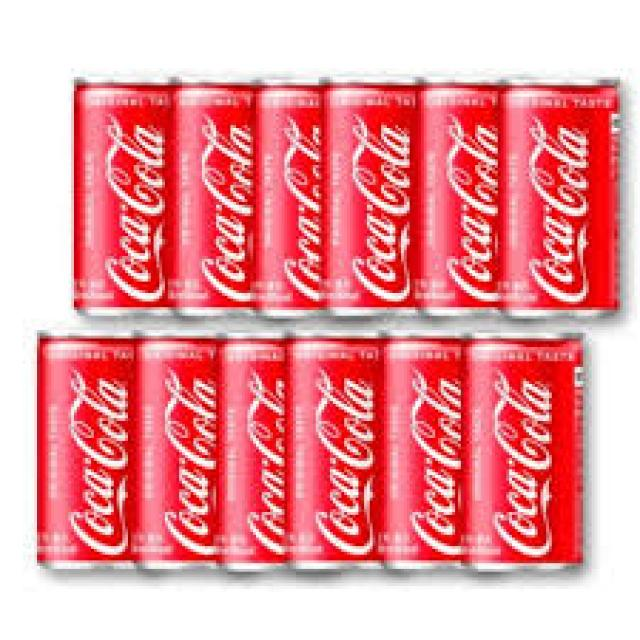Coca-Cola: (408, 72, 566, 312), (61, 58, 204, 316), (457, 328, 591, 588), (219, 330, 358, 577), (494, 69, 628, 321), (246, 70, 386, 309), (169, 64, 300, 312), (131, 332, 263, 572), (318, 72, 445, 312), (30, 330, 152, 579), (386, 332, 509, 578), (288, 334, 416, 567)
